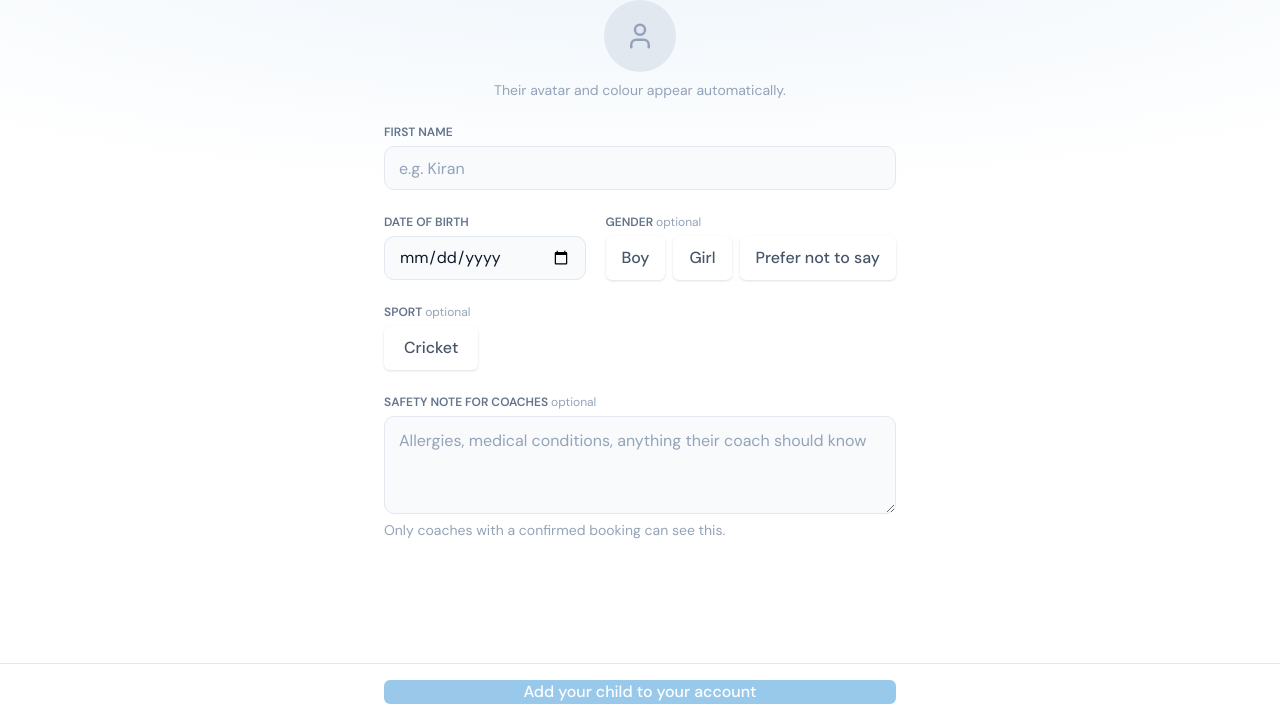
Test: ChildForm — create mode › renders a server error inline
Step 1. Type "Kiran" into the field with test id "child-name-input" → (640, 168), box [384,146,896,190]
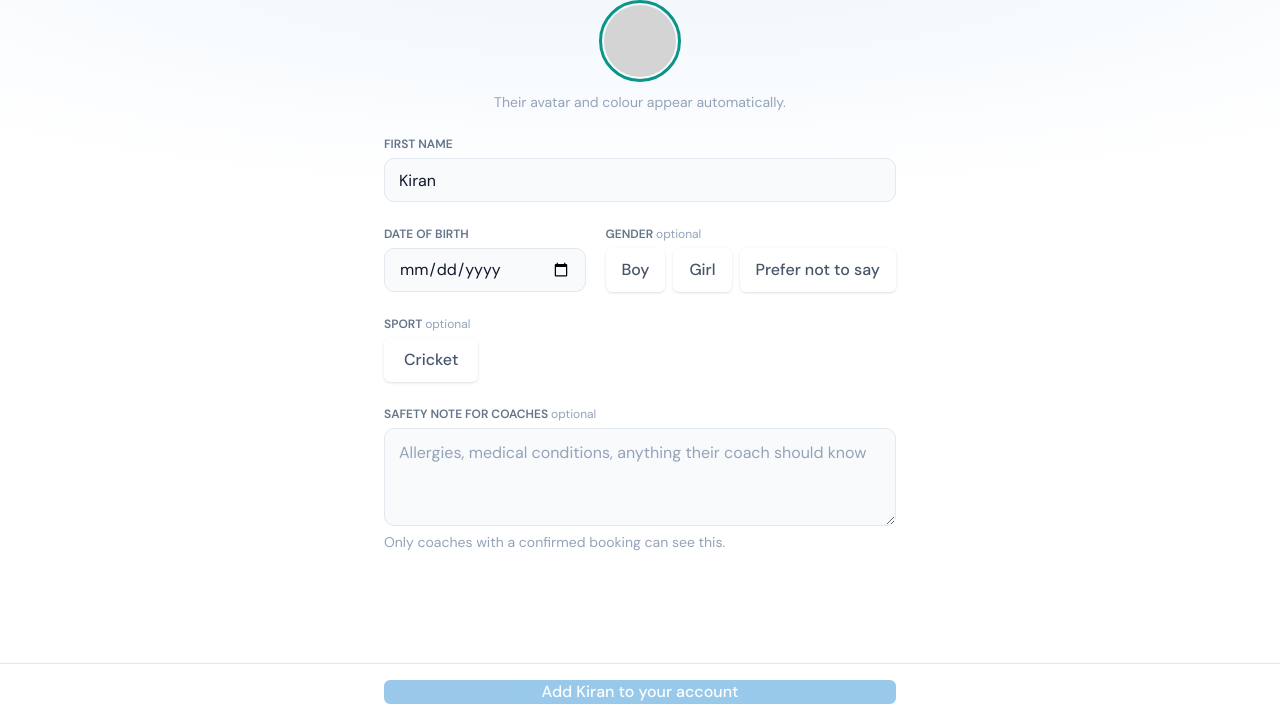
Step 2. Type "2020-03-14" into the date field with test id "child-dob-input" → (485, 270), box [384,248,586,292]
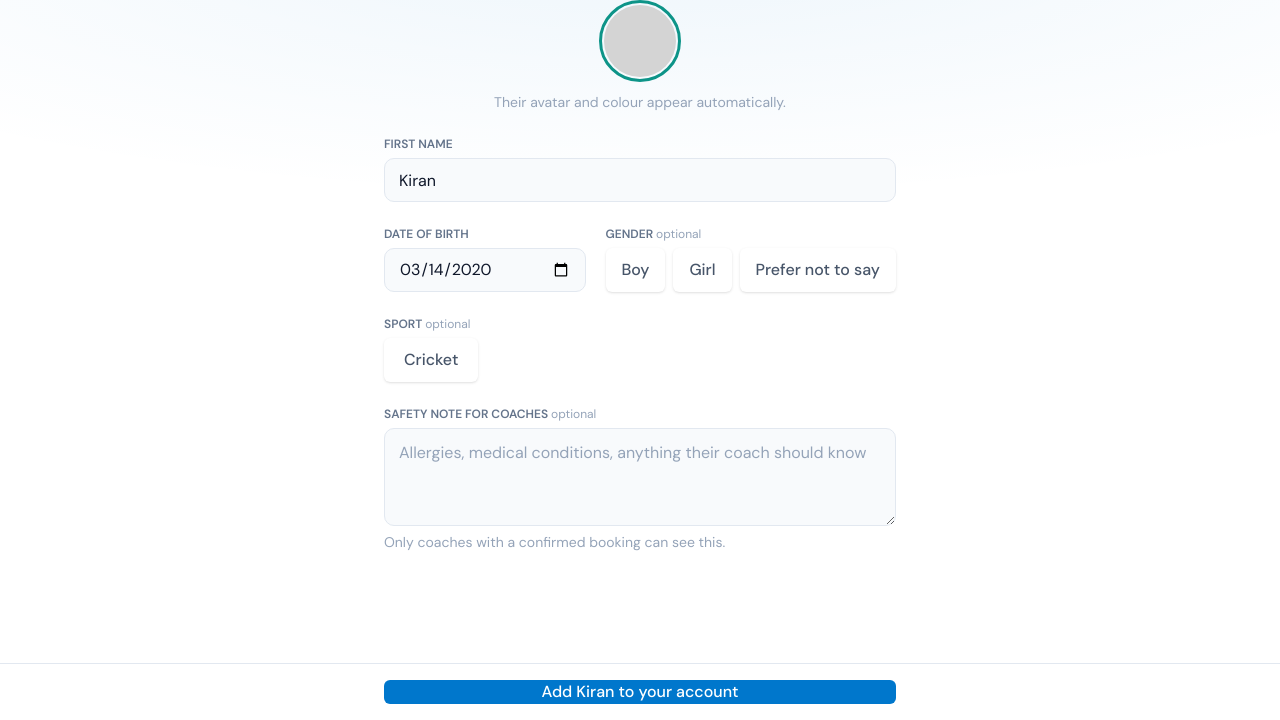
Step 3. Click the button with test id "child-form-submit" → (640, 692), box [384,680,896,704]
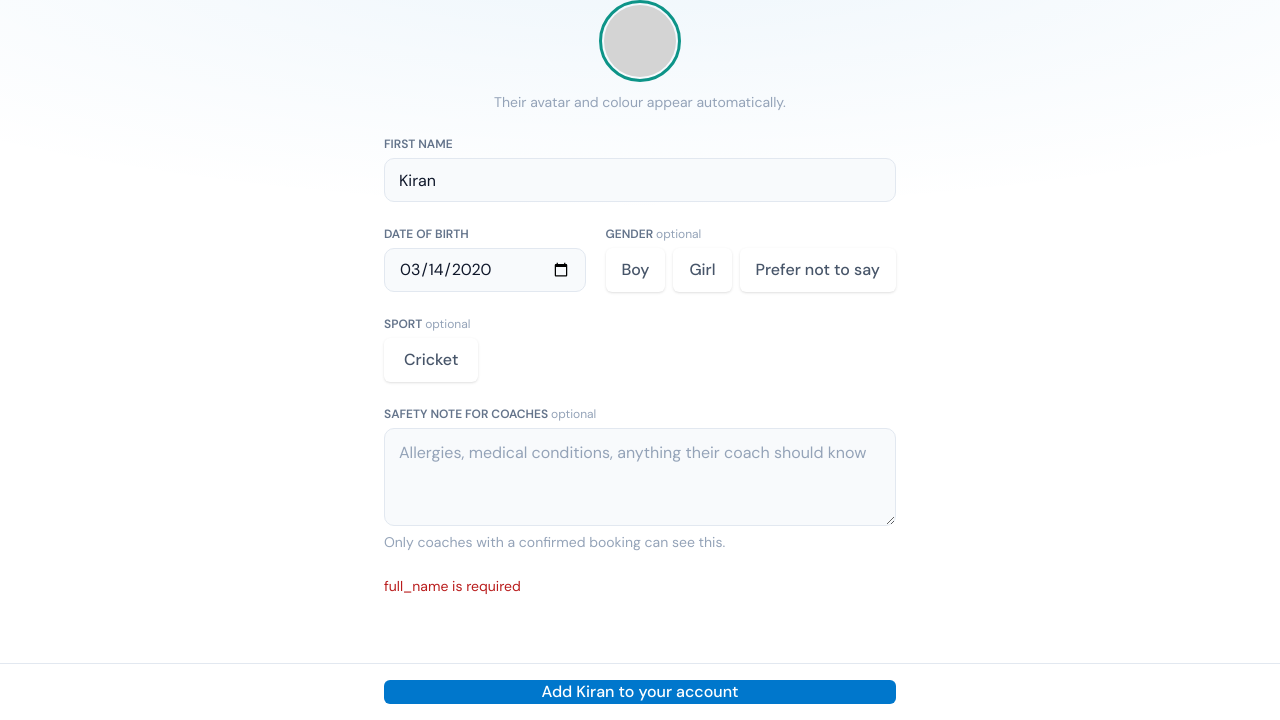
Expected: the message with test id "child-form-error" reads "full_name is required", [384,577,521,595]
